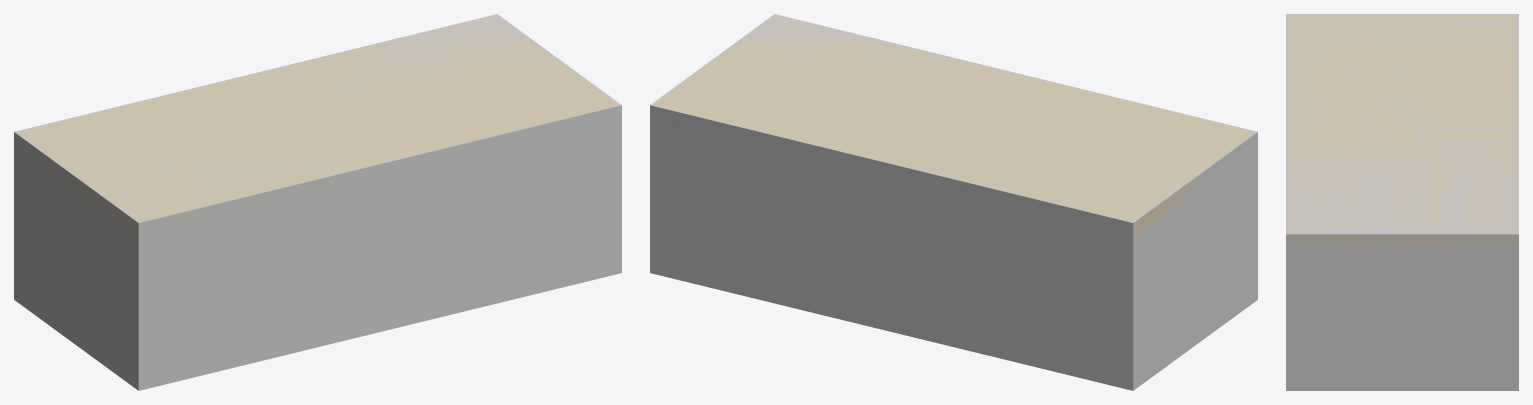
The model's file is conference-table_basic.glb.
The picture shows the model from 3 angles, left to right: view 1: azimuth 30°, elevation 25°; view 2: azimuth 150°, elevation 25°; view 3: azimuth 270°, elevation 25°; orthographic projection. The views are drawn at different scales.
Visible parts, largest first — view 1: COL_conference-table, MESH_Top; view 2: COL_conference-table, MESH_Top; view 3: COL_conference-table, MESH_Top.
Boxes of the visible parts, left/top/right/bottom form: COL_conference-table: left=14, top=14, right=621, bottom=390; MESH_Top: left=15, top=15, right=618, bottom=236; COL_conference-table: left=650, top=14, right=1257, bottom=390; MESH_Top: left=651, top=16, right=1254, bottom=236; COL_conference-table: left=1286, top=14, right=1518, bottom=390; MESH_Top: left=1288, top=14, right=1516, bottom=248.
Size of the model in its own units: 2.35 by 0.78 by 1.05.
